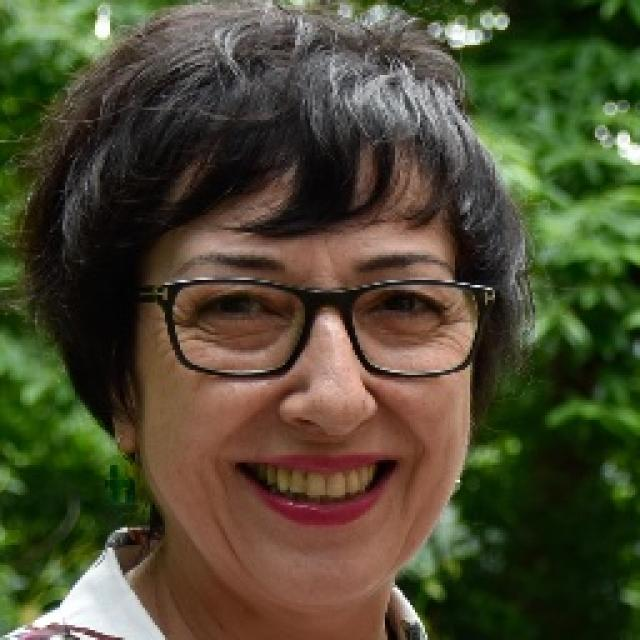earlobe: (112, 406, 140, 456)
eye: (364, 288, 449, 319), (200, 288, 280, 319)
nose: (285, 414, 378, 444)
